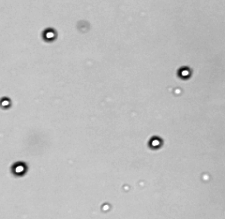Living Cell: (12, 161, 27, 175), (148, 135, 162, 148), (178, 65, 192, 78), (43, 27, 56, 40), (1, 96, 11, 108)
